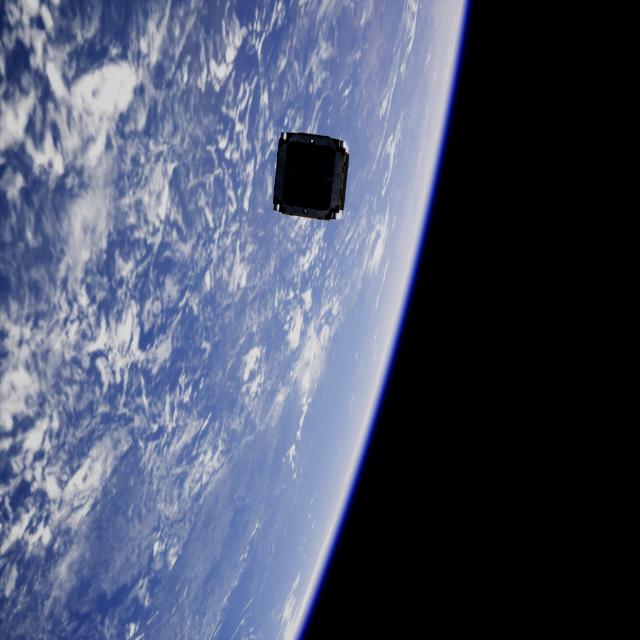satellite: (277, 123, 350, 219)
